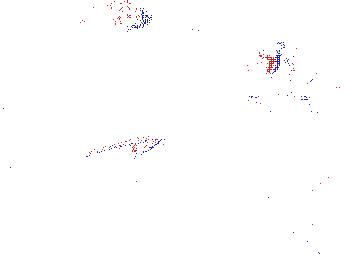X-ray fish: (77, 1, 154, 35)
glassfish: (77, 132, 165, 167)
redtail glassfish: (284, 45, 338, 74), (245, 91, 312, 114)
